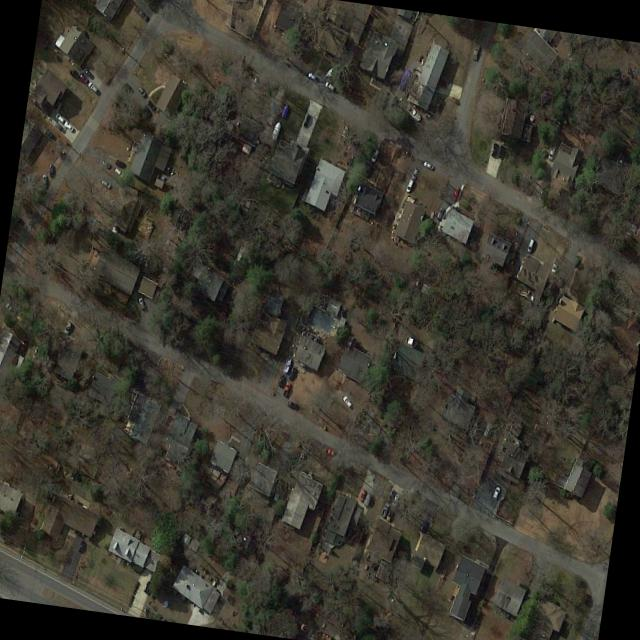large-vehicle: (282, 382, 292, 397)
ship: (405, 102, 422, 122), (323, 63, 342, 80), (270, 120, 282, 142), (280, 102, 290, 119)
small-vehicle: (134, 5, 149, 21), (145, 99, 160, 113), (471, 42, 481, 60), (44, 126, 57, 139), (324, 80, 338, 92), (63, 119, 75, 132), (87, 80, 99, 93), (370, 148, 381, 162), (404, 177, 414, 192), (380, 502, 390, 517), (54, 111, 66, 123), (362, 492, 373, 505), (277, 373, 287, 387), (287, 400, 301, 410), (357, 488, 367, 502), (392, 492, 402, 506), (303, 112, 312, 127), (551, 257, 560, 272), (526, 237, 535, 252), (423, 159, 435, 170), (452, 186, 460, 202), (548, 145, 556, 161), (63, 320, 72, 334), (114, 167, 125, 178), (342, 394, 352, 406), (491, 142, 499, 157), (79, 72, 89, 84), (420, 520, 429, 533), (385, 508, 394, 521), (387, 489, 396, 502), (492, 486, 501, 499), (307, 71, 318, 81), (100, 178, 111, 188), (327, 447, 339, 456), (436, 207, 445, 219), (137, 85, 146, 97), (100, 160, 112, 169), (115, 159, 127, 168), (498, 145, 506, 158), (78, 539, 86, 552), (138, 296, 146, 309), (85, 68, 94, 79), (289, 367, 297, 379), (411, 167, 419, 179), (49, 164, 55, 177), (43, 173, 48, 188), (253, 76, 259, 87)
